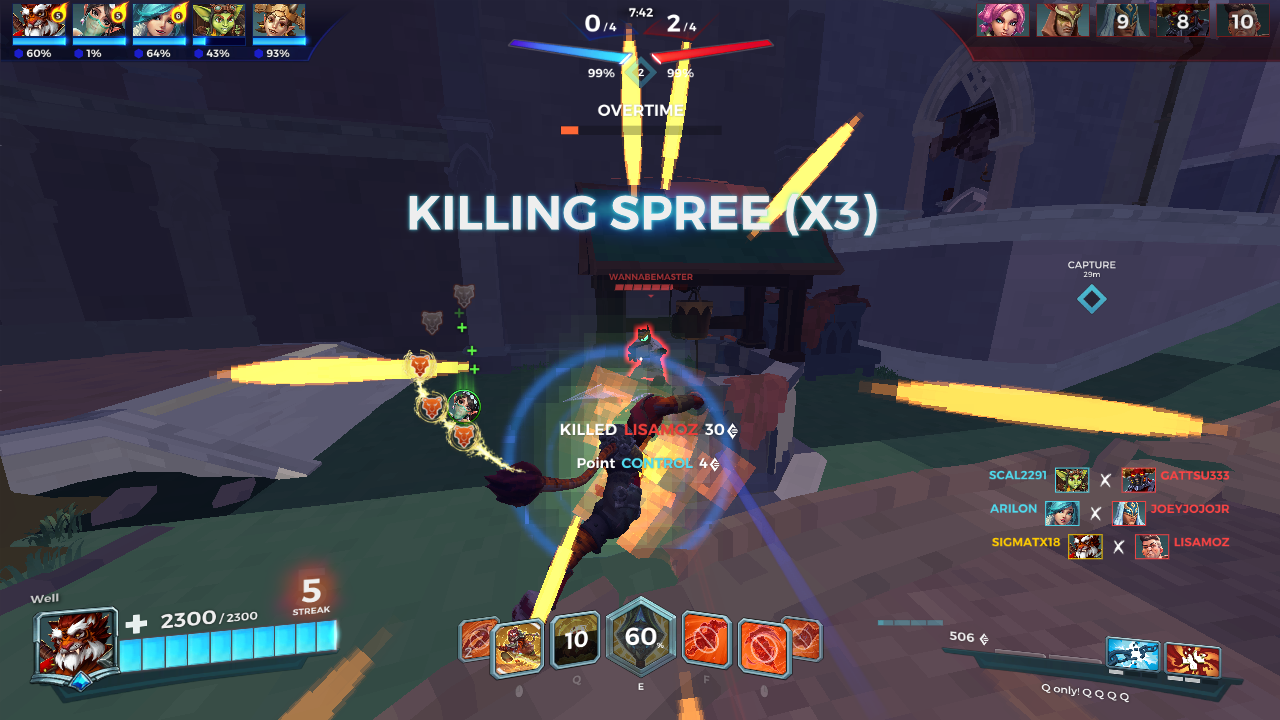model: (626, 323, 666, 385)
